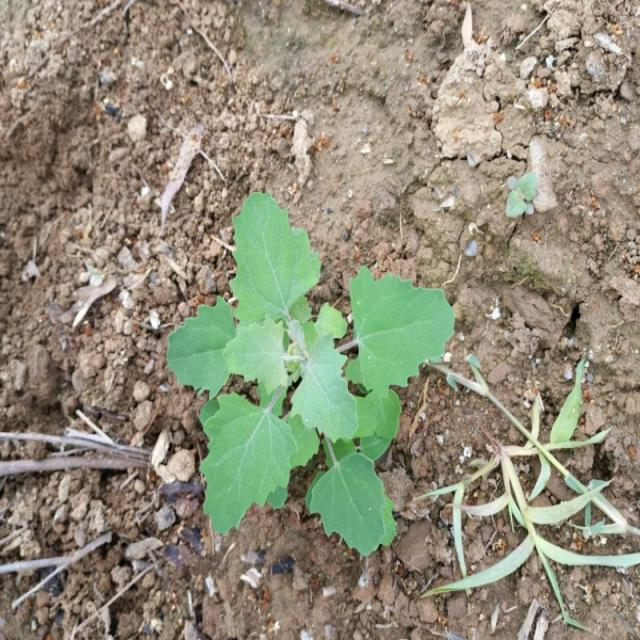ca: (166, 191, 457, 557)
